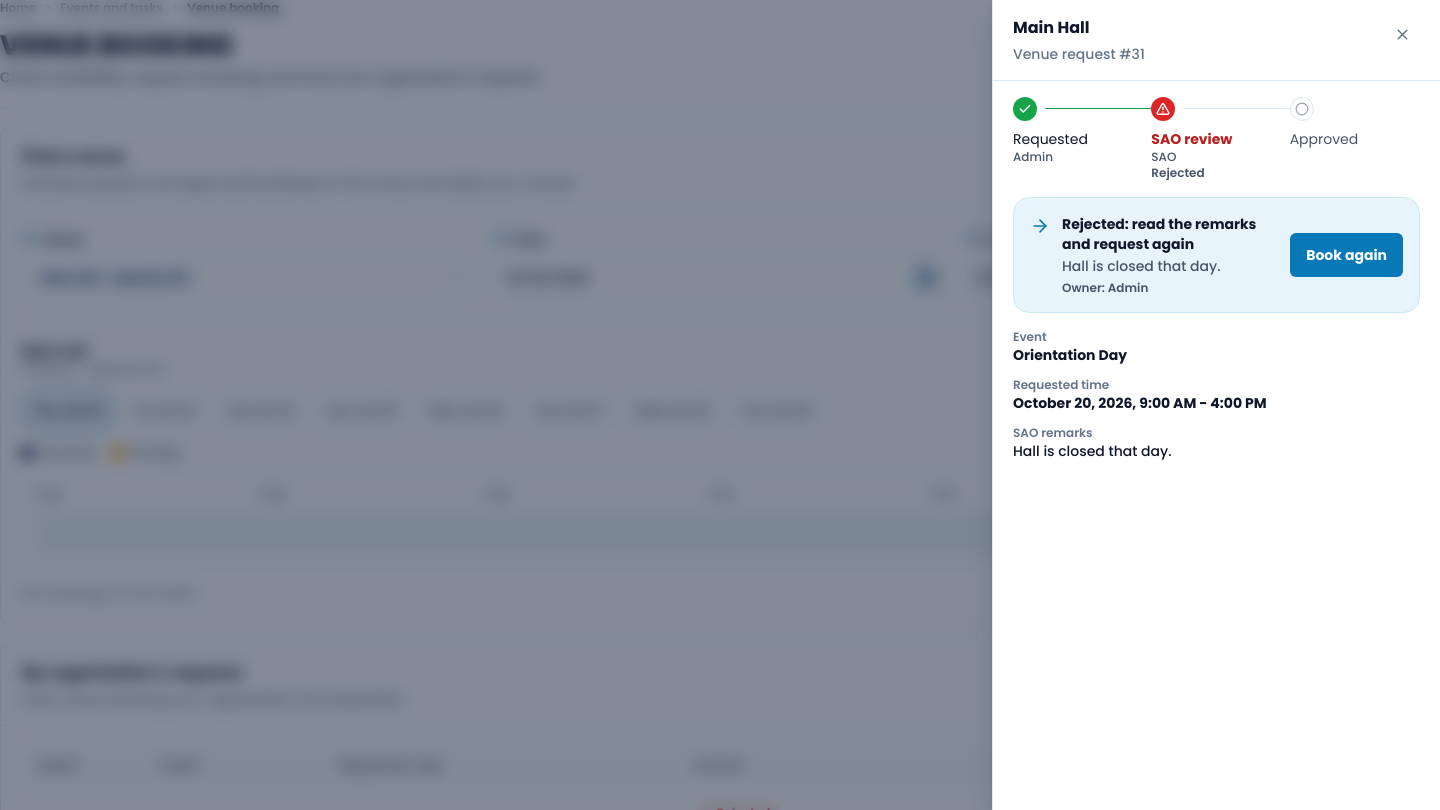
VenueBookingPage › offers Book again on a rejected request and shows the SAO remarks
Check: the 1st text "Hall is closed that day." is shown, box [1062,256,1221,276]
Click the button "Book again" at (1347, 255), box [1290,233,1403,277]
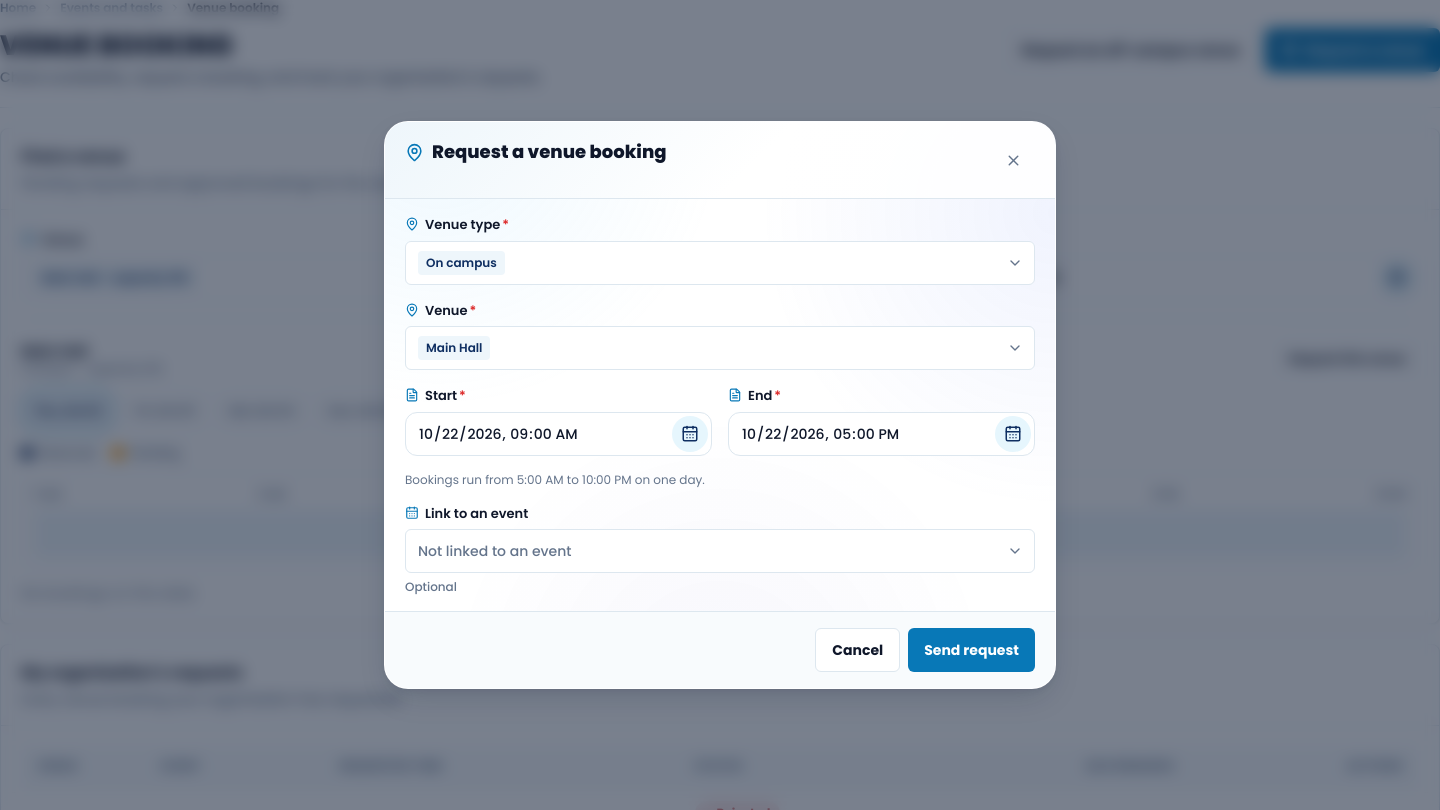
Check: the dialog "Request a venue booking" is shown, box [384,121,1056,689]
